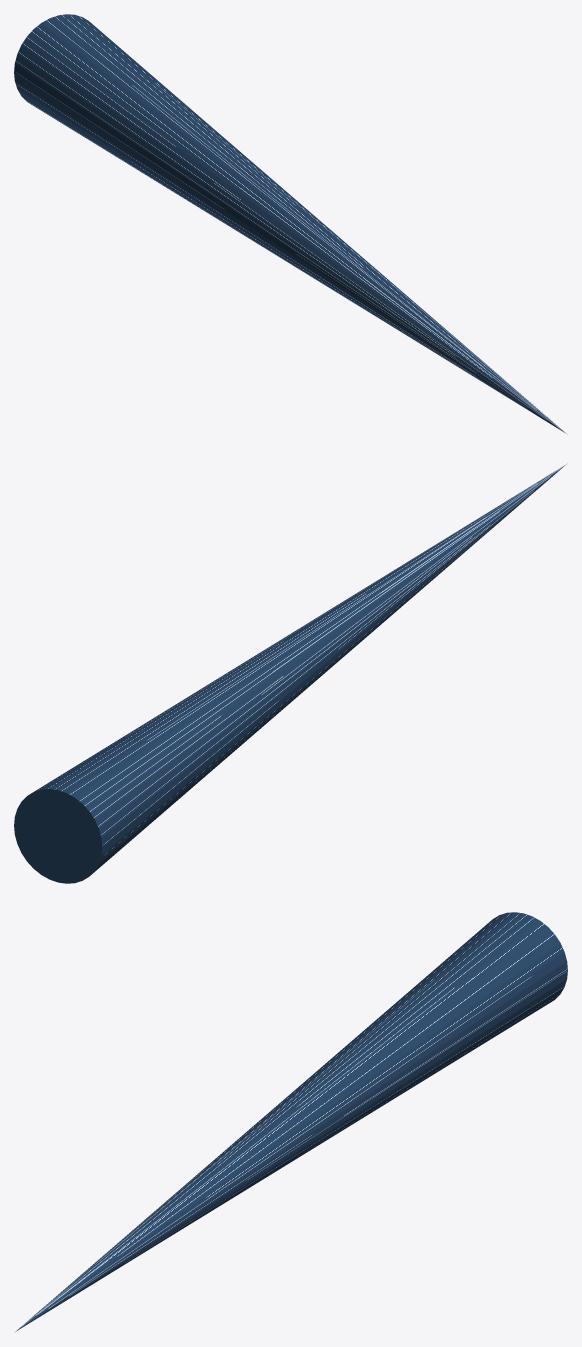
The model's file is skydome.obj.
The picture shows the model from 3 angles, top to bottom: view 1: azimuth 30°, elevation 25°; view 2: azimuth 150°, elevation 25°; view 3: azimuth 330°, elevation 25°; orthographic projection.
Visible parts, largest first — view 1: 円錐; view 2: 円錐; view 3: 円錐.
Boxes of the visible parts, x1,y1,x2,y2 form: 円錐: (14,14,567,434); 円錐: (14,463,567,883); 円錐: (14,912,567,1332).
Bounding box in the file's own units: 200 × 200 × 2000.
